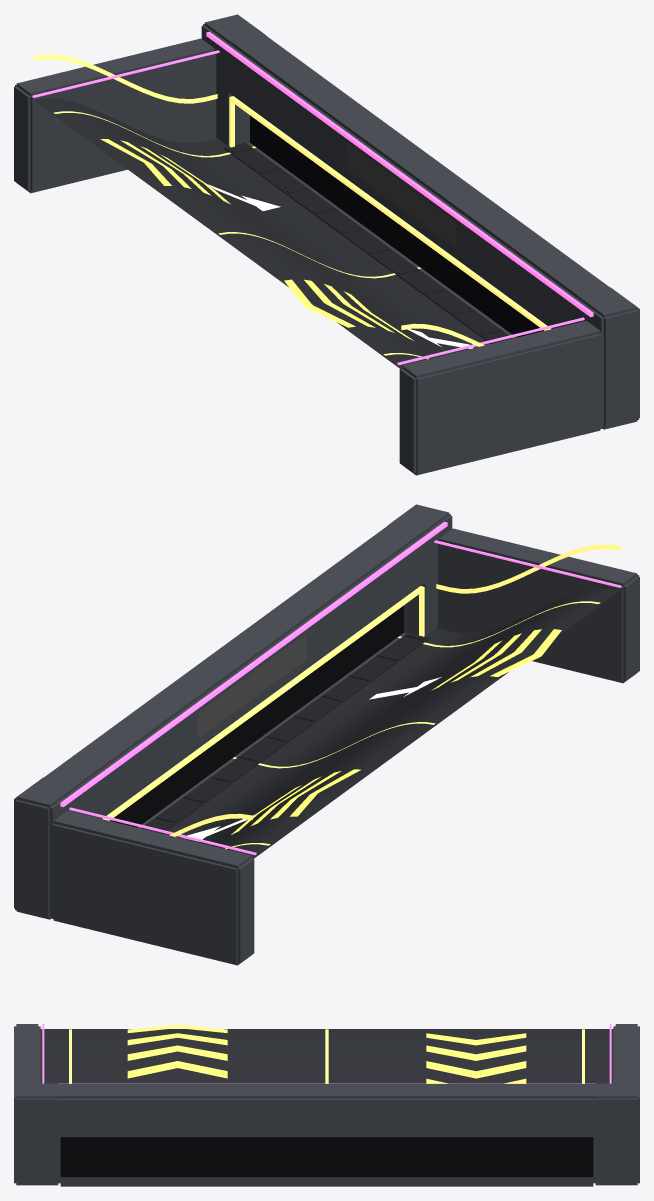
File: portal331.glb
3 views of the same model, one above another, from view 1: azimuth 30°, elevation 25°; view 2: azimuth 150°, elevation 25°; view 3: azimuth 270°, elevation 25° (orthographic). The views are drawn at different scales.
Visible parts, largest first — view 1: portal331-body, portal331-floor, portal331-inner, portal331-grate, portal331-amber, portal331-pink, portal331-sign, portal331-haz, portal331-mark; view 2: portal331-body, portal331-floor, portal331-inner, portal331-grate, portal331-amber, portal331-pink, portal331-sign, portal331-haz; view 3: portal331-body, portal331-floor, portal331-inner, portal331-haz, portal331-pink, portal331-amber.
Part boxes in pixels (x1,y1,x2,y2): portal331-body: [14, 14, 639, 475]; portal331-floor: [33, 98, 489, 368]; portal331-inner: [250, 115, 543, 337]; portal331-grate: [224, 142, 512, 343]; portal331-amber: [33, 54, 551, 359]; portal331-pink: [32, 31, 593, 365]; portal331-sign: [347, 143, 455, 248]; portal331-haz: [100, 139, 413, 340]; portal331-mark: [208, 184, 473, 348]; portal331-body: [14, 504, 639, 965]; portal331-floor: [164, 588, 620, 858]; portal331-inner: [110, 605, 403, 827]; portal331-grate: [141, 632, 429, 833]; portal331-amber: [102, 544, 620, 849]; portal331-pink: [60, 521, 621, 855]; portal331-sign: [198, 633, 306, 738]; portal331-haz: [231, 629, 561, 834]; portal331-body: [14, 1024, 639, 1186]; portal331-floor: [40, 1029, 613, 1083]; portal331-inner: [60, 1137, 593, 1177]; portal331-haz: [127, 1025, 526, 1083]; portal331-pink: [42, 1023, 611, 1083]; portal331-amber: [69, 1029, 584, 1083].
Size of the model in its own units: 2.58 by 1.47 by 7.76.
